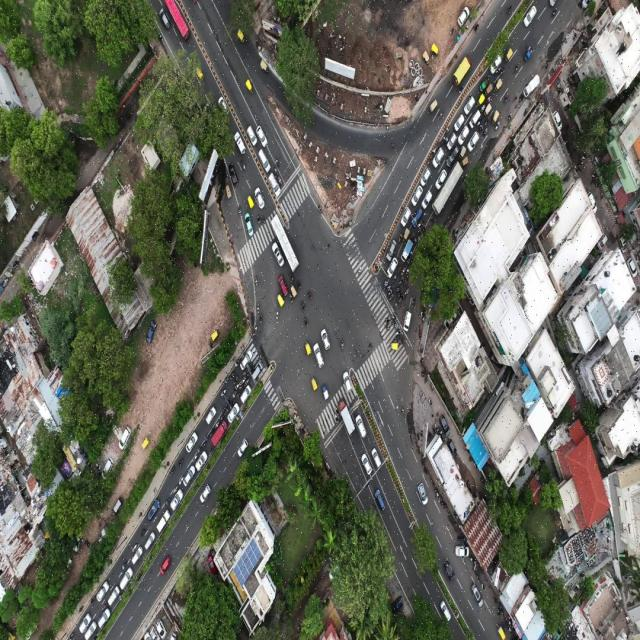3W: (260, 58, 270, 74), (429, 99, 438, 115), (302, 342, 312, 356), (504, 48, 514, 62), (310, 377, 318, 394), (431, 42, 440, 57), (223, 186, 232, 201), (478, 91, 486, 107), (246, 78, 254, 94), (289, 283, 297, 299), (495, 78, 503, 93), (142, 437, 151, 450), (211, 330, 220, 342), (423, 50, 430, 65), (492, 108, 499, 122), (499, 626, 506, 640), (238, 29, 245, 43), (278, 293, 284, 308), (390, 341, 399, 351), (248, 196, 253, 210)
Bus: (433, 161, 464, 219), (271, 215, 300, 273)
Cars: (523, 75, 540, 99), (469, 584, 483, 609), (159, 508, 172, 534), (270, 172, 283, 198), (258, 148, 271, 173), (523, 6, 538, 27), (388, 258, 401, 282), (98, 607, 111, 631), (243, 212, 255, 237), (120, 569, 133, 592), (121, 425, 134, 448), (468, 130, 481, 153), (491, 53, 504, 76), (184, 465, 197, 487), (158, 9, 171, 31), (254, 187, 266, 210), (444, 559, 456, 582), (104, 452, 115, 477), (96, 581, 109, 602), (227, 403, 241, 422), (401, 206, 413, 228), (411, 185, 423, 207), (356, 415, 368, 437), (171, 490, 184, 510), (457, 5, 469, 26), (417, 483, 429, 504), (251, 363, 264, 382), (79, 614, 92, 633), (464, 95, 475, 117), (359, 455, 370, 477), (277, 275, 288, 297), (199, 484, 211, 504), (238, 438, 250, 458), (186, 431, 198, 451), (469, 110, 482, 128), (440, 599, 451, 620), (160, 555, 171, 576), (146, 320, 156, 343), (375, 488, 385, 511), (421, 168, 433, 187), (132, 548, 144, 567), (258, 122, 267, 147), (113, 496, 124, 516), (144, 532, 155, 552), (247, 126, 257, 148), (240, 386, 252, 404), (455, 545, 469, 560), (313, 343, 321, 369), (404, 309, 411, 335), (454, 113, 464, 131), (240, 350, 252, 365), (343, 372, 352, 392), (372, 448, 381, 468), (205, 405, 216, 420), (387, 240, 396, 258), (321, 328, 330, 346), (228, 161, 235, 183), (147, 499, 160, 510), (447, 134, 456, 149)
LCV: (235, 132, 246, 154), (524, 42, 534, 64), (479, 73, 488, 89), (323, 383, 329, 399)
M2W: (503, 93, 510, 105), (552, 6, 559, 18), (253, 325, 259, 339), (168, 465, 175, 477), (276, 309, 282, 323), (506, 112, 514, 122), (254, 274, 260, 287), (474, 19, 479, 34), (306, 289, 312, 301), (237, 204, 243, 216), (339, 337, 345, 349), (393, 313, 400, 323), (203, 440, 209, 451), (122, 556, 128, 567), (221, 388, 227, 399), (274, 156, 280, 167), (256, 303, 262, 314), (439, 109, 445, 120), (482, 127, 489, 136), (230, 393, 236, 403), (301, 299, 306, 311), (383, 279, 389, 289), (90, 596, 96, 606), (515, 64, 521, 74), (241, 160, 247, 170), (289, 273, 295, 283), (259, 314, 264, 326), (495, 121, 501, 131), (385, 323, 392, 331), (488, 95, 494, 104), (255, 215, 261, 224), (178, 459, 184, 468), (243, 368, 248, 378), (259, 350, 264, 360), (304, 317, 308, 329), (386, 315, 391, 324), (406, 287, 411, 296), (438, 141, 443, 150), (261, 214, 266, 223), (234, 360, 239, 369), (194, 453, 199, 462), (221, 404, 227, 411), (397, 291, 403, 298), (224, 377, 230, 384), (245, 379, 250, 387), (395, 302, 400, 310), (394, 323, 399, 331), (400, 295, 405, 303), (418, 221, 423, 229), (231, 373, 236, 381), (298, 279, 302, 289), (166, 497, 170, 507), (178, 475, 182, 484), (401, 277, 405, 286), (486, 117, 490, 126), (442, 136, 446, 145), (398, 230, 402, 239), (401, 406, 405, 415), (239, 380, 245, 386), (397, 336, 402, 343), (236, 394, 240, 402), (405, 278, 409, 286), (413, 231, 417, 239), (199, 446, 203, 454), (235, 383, 239, 390), (397, 285, 401, 292), (407, 267, 410, 276), (388, 289, 392, 295), (415, 238, 418, 246), (274, 168, 277, 172), (221, 415, 225, 418)
MAV: (401, 241, 414, 264)
Truck: (451, 53, 473, 87), (337, 399, 357, 434), (213, 419, 229, 447)
